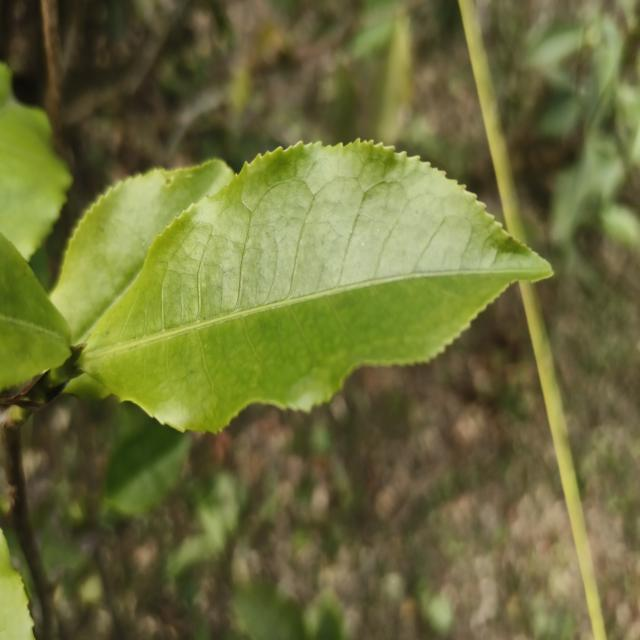Leaf: (81, 142, 552, 431), (52, 159, 234, 343), (0, 62, 72, 261), (0, 233, 71, 391), (105, 425, 190, 515), (233, 583, 306, 640), (528, 25, 583, 71), (601, 204, 640, 247)
